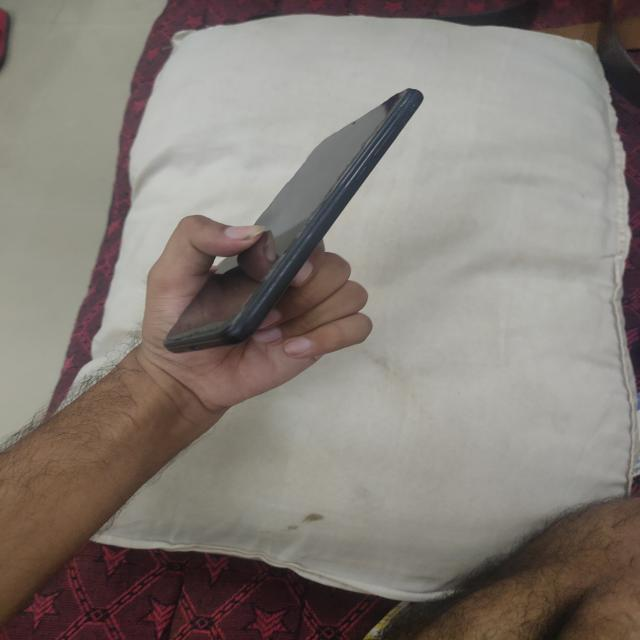Phone: (158, 88, 430, 355)
